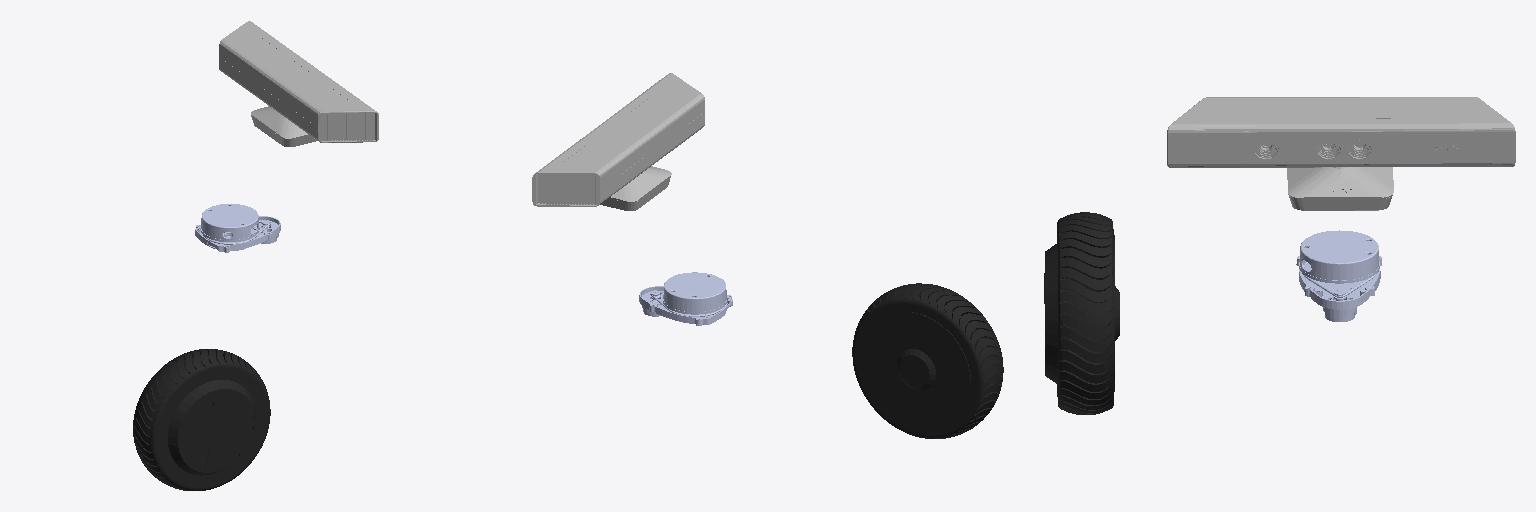
The robot description file, URDF, robot "robot_v4":
<?xml version="1.0" encoding="utf-8"?>
<!-- This URDF was automatically created by SolidWorks to URDF Exporter! Originally created by [author] ([email redacted]) 
     Commit Version: 1.6.0-4-g7f85cfe  Build Version: 1.6.7995.38578
     For more information, please see http://wiki.ros.org/sw_urdf_exporter -->
<robot
  name="robot_v4">
  <link
    name="base_link">
    <inertial>
      <origin
        xyz="0.0217238518258238 -0.00542439916991583 0.0588804392634367"
        rpy="0 0 0" />
      <mass
        value="9.10223838471358" />
      <inertia
        ixx="0.0310570072381323"
        ixy="-0.000255905972154439"
        ixz="0.000472131027409286"
        iyy="0.0533731253431923"
        iyz="-6.76323247108687E-07"
        izz="0.0741242444070612" />
    </inertial>
    <visual>
      <origin
        xyz="0 0 0"
        rpy="0 0 0" />
      <geometry>
        <mesh
          filename="package://robot_v4/meshes/base_link.STL" />
      </geometry>
      <material
        name="">
        <color
          rgba="0.752941176470588 0.752941176470588 0.752941176470588 1" />
      </material>
    </visual>
    <collision>
      <origin
        xyz="0 0 0"
        rpy="0 0 0" />
      <geometry>
        <mesh
          filename="package://robot_v4/meshes/base_link.STL" />
      </geometry>
    </collision>
  </link>
  <link
    name="lidar_link">
    <inertial>
      <origin
        xyz="0.0148383171366363 0.000447683430937595 -0.0211536208252563"
        rpy="0 0 0" />
      <mass
        value="0.0312409127406479" />
      <inertia
        ixx="8.88026370810997E-06"
        ixy="-1.77664494330299E-07"
        ixz="1.13027679917102E-07"
        iyy="1.44910018205435E-05"
        iyz="3.46076114996164E-08"
        izz="2.25289099520271E-05" />
    </inertial>
    <visual>
      <origin
        xyz="0 0 0"
        rpy="0 0 0" />
      <geometry>
        <mesh
          filename="package://robot_v4/meshes/lidar_link.STL" />
      </geometry>
      <material
        name="">
        <color
          rgba="0.792156862745098 0.819607843137255 0.933333333333333 1" />
      </material>
    </visual>
    <collision>
      <origin
        xyz="0 0 0"
        rpy="0 0 0" />
      <geometry>
        <mesh
          filename="package://robot_v4/meshes/lidar_link.STL" />
      </geometry>
    </collision>
  </link>
  <joint
    name="lidar"
    type="fixed">
    <origin
      xyz="0.155666725643582 0.00112777065633451 0.146099999998099"
      rpy="0 0 0" />
    <parent
      link="base_link" />
    <child
      link="lidar_link" />
    <axis
      xyz="0 0 0" />
  </joint>
  <link
    name="imu_link">
    <inertial>
      <origin
        xyz="-0.000128980117751309 -0.000191495598006131 -0.00384070509348666"
        rpy="0 0 0" />
      <mass
        value="0.000999898118986829" />
      <inertia
        ixx="2.50447716935415E-08"
        ixy="1.03965056246903E-10"
        ixz="-2.68560481393576E-14"
        iyy="1.2451353550853E-08"
        iyz="-1.1856542331207E-14"
        izz="3.06376353115898E-08" />
    </inertial>
    <visual>
      <origin
        xyz="0 0 0"
        rpy="0 0 0" />
      <geometry>
        <mesh
          filename="package://robot_v4/meshes/imu_link.STL" />
      </geometry>
      <material
        name="">
        <color
          rgba="0.792156862745098 0.819607843137255 0.933333333333333 1" />
      </material>
    </visual>
    <collision>
      <origin
        xyz="0 0 0"
        rpy="0 0 0" />
      <geometry>
        <mesh
          filename="package://robot_v4/meshes/imu_link.STL" />
      </geometry>
    </collision>
  </link>
  <joint
    name="imu"
    type="fixed">
    <origin
      xyz="0.126428933055049 -0.100523077234269 0.0330200000034927"
      rpy="0 0 0" />
    <parent
      link="base_link" />
    <child
      link="imu_link" />
    <axis
      xyz="0 0 0" />
  </joint>
  <link
    name="right_wheel_link">
    <inertial>
      <origin
        xyz="0.000243587829777736 -0.0295000990455644 8.01158028806981E-11"
        rpy="0 0 0" />
      <mass
        value="0.981706650902441" />
      <inertia
        ixx="0.00165298875829608"
        ixy="-1.01208993064455E-05"
        ixz="-1.81686206579909E-09"
        iyy="0.00287861061005824"
        iyz="-1.35675306093617E-11"
        izz="0.00165291235980834" />
    </inertial>
    <visual>
      <origin
        xyz="0 0 0"
        rpy="0 0 0" />
      <geometry>
        <mesh
          filename="package://robot_v4/meshes/right_wheel_link.STL" />
      </geometry>
      <material
        name="">
        <color
          rgba="0.2 0.2 0.2 1" />
      </material>
    </visual>
    <collision>
      <origin
        xyz="0 0 0"
        rpy="0 0 0" />
      <geometry>
        <mesh
          filename="package://robot_v4/meshes/right_wheel_link.STL" />
      </geometry>
    </collision>
  </link>
  <joint
    name="right_wheel"
    type="continuous">
    <origin
      xyz="0.00157556970077088 -0.175020257687692 0.0150000000042174"
      rpy="0 0 0" />
    <parent
      link="base_link" />
    <child
      link="right_wheel_link" />
    <axis
      xyz="-0.00825691107326283 0.999965911128739 0" />
  </joint>
  <link
    name="left_wheel_link">
    <inertial>
      <origin
        xyz="-0.000243587829778624 0.0295000990455639 8.01149702134296E-11"
        rpy="0 0 0" />
      <mass
        value="0.981706650902443" />
      <inertia
        ixx="0.00165299120834847"
        ixy="-1.01249109871006E-05"
        ixz="-1.44984115092599E-08"
        iyy="0.00287861950901393"
        iyz="7.25004217425214E-11"
        izz="0.00165291988234476" />
    </inertial>
    <visual>
      <origin
        xyz="0 0 0"
        rpy="0 0 0" />
      <geometry>
        <mesh
          filename="package://robot_v4/meshes/left_wheel_link.STL" />
      </geometry>
      <material
        name="">
        <color
          rgba="0.2 0.2 0.2 1" />
      </material>
    </visual>
    <collision>
      <origin
        xyz="0 0 0"
        rpy="0 0 0" />
      <geometry>
        <mesh
          filename="package://robot_v4/meshes/left_wheel_link.STL" />
      </geometry>
    </collision>
  </link>
  <joint
    name="left_wheel"
    type="continuous">
    <origin
      xyz="-0.00131434917487327 0.174967811207364 0.0150000000042175"
      rpy="0 0 0" />
    <parent
      link="base_link" />
    <child
      link="left_wheel_link" />
    <axis
      xyz="0.00825691107326281 -0.999965911128739 0" />
  </joint>
  <link
    name="camera_link">
    <inertial>
      <origin
        xyz="-0.0286974043856941 -0.00315323141543045 -0.00696427170361869"
        rpy="0 0 0" />
      <mass
        value="0.646454884722171" />
      <inertia
        ixx="0.00284238273150167"
        ixy="1.87273045722636E-05"
        ixz="1.48075090927568E-07"
        iyy="0.000263758634375457"
        iyz="-3.33736128974553E-08"
        izz="0.00296274058967308" />
    </inertial>
    <visual>
      <origin
        xyz="0 0 0"
        rpy="0 0 0" />
      <geometry>
        <mesh
          filename="package://robot_v4/meshes/camera_link.STL" />
      </geometry>
      <material
        name="">
        <color
          rgba="0.752941176470588 0.752941176470588 0.752941176470588 1" />
      </material>
    </visual>
    <collision>
      <origin
        xyz="0 0 0"
        rpy="0 0 0" />
      <geometry>
        <mesh
          filename="package://robot_v4/meshes/camera_link.STL" />
      </geometry>
    </collision>
  </link>
  <joint
    name="cam"
    type="fixed">
    <origin
      xyz="0.264952270554911 0.00535821231736117 0.284425164615102"
      rpy="0 0 0" />
    <parent
      link="base_link" />
    <child
      link="camera_link" />
    <axis
      xyz="0 0 0" />
  </joint>
</robot>

--- Facts derived from the render (not from the file) ---
The picture shows the robot from 3 angles, left to right: view 1: azimuth 30°, elevation 25°; view 2: azimuth 150°, elevation 25°; view 3: azimuth 270°, elevation 25°; orthographic projection.
Robot: robot_v4 — 6 links, 5 joints (2 continuous, 3 fixed); root link base_link; default pose: all joints at 0.
Visible links, largest first — view 1: right_wheel_link, camera_link, lidar_link; view 2: right_wheel_link, camera_link, lidar_link; view 3: camera_link, right_wheel_link, lidar_link.
Link boxes in pixels (left/top/right/bottom): right_wheel_link: left=133, top=349, right=270, bottom=490; camera_link: left=219, top=21, right=378, bottom=146; lidar_link: left=195, top=204, right=280, bottom=252; right_wheel_link: left=852, top=283, right=1003, bottom=438; camera_link: left=532, top=73, right=704, bottom=210; lidar_link: left=639, top=272, right=732, bottom=325; camera_link: left=1167, top=97, right=1515, bottom=210; right_wheel_link: left=1044, top=212, right=1119, bottom=414; lidar_link: left=1296, top=230, right=1381, bottom=321.
Size in the robot's own frame: 0.3524 by 0.3777 by 0.3699 metres.
Meshes: 6 distinct files referenced, 3 mesh visuals loaded (3 binary STL); not drawn: 3 (reference not matched to a file when rendering).